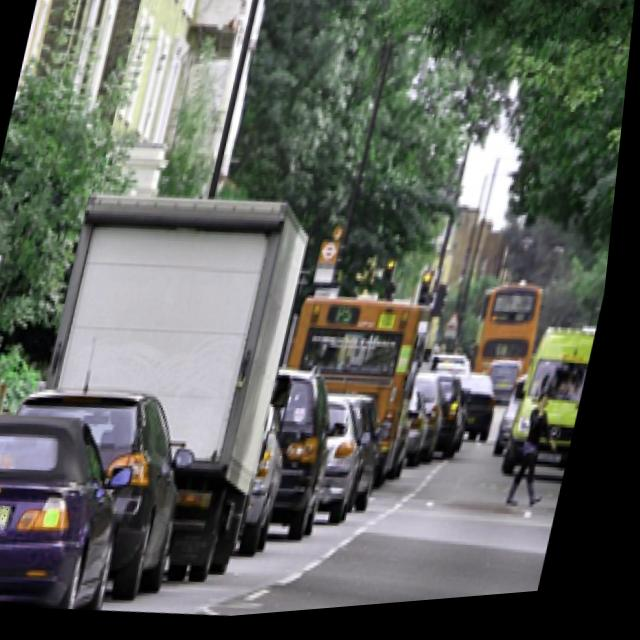license_plate: (0, 499, 24, 543)
